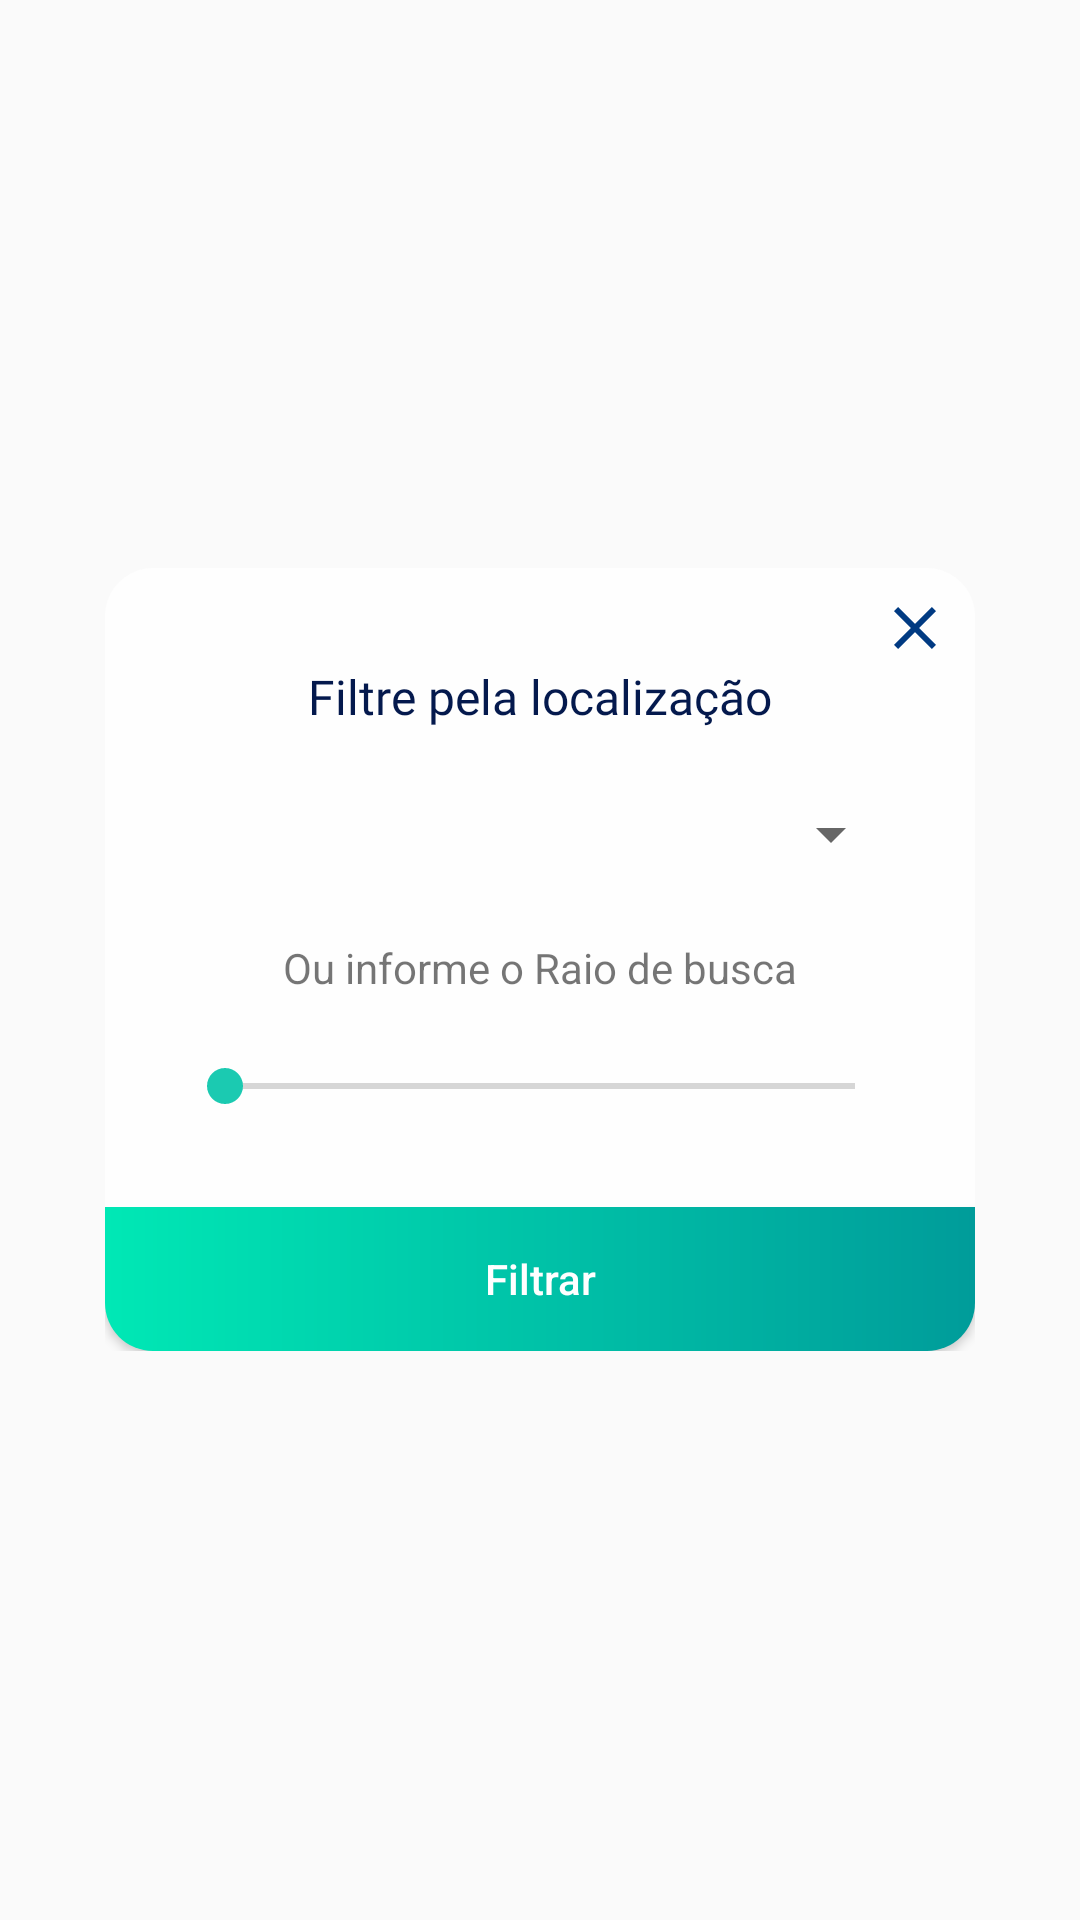

Icon bounding boxes for this 1080w x 1920h phone screenshot, format [x1=x1, y1=y1, x2=x2, y2=y2]:
close: [x1=894, y1=607, x2=936, y2=649]
